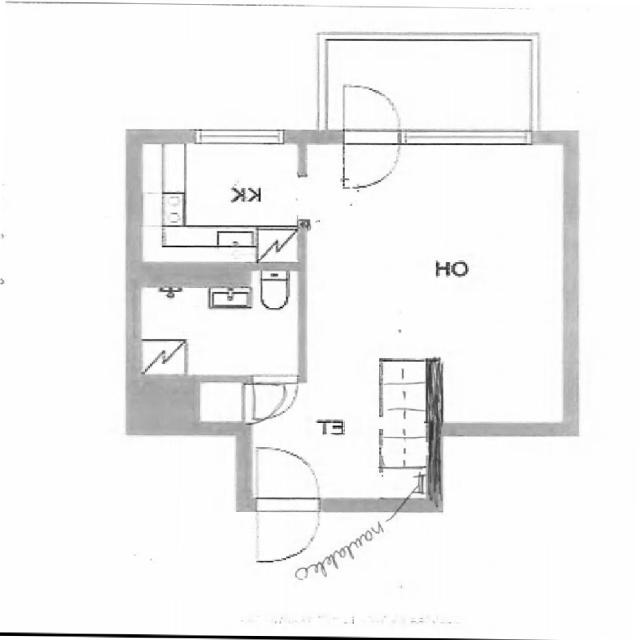door: (249, 502, 323, 568), (236, 375, 302, 431), (339, 138, 403, 195), (339, 80, 404, 136), (256, 445, 322, 500), (374, 466, 428, 511)
window: (401, 124, 533, 150), (190, 124, 290, 151)
zone: (301, 136, 574, 427), (132, 138, 304, 266), (137, 270, 302, 380)
